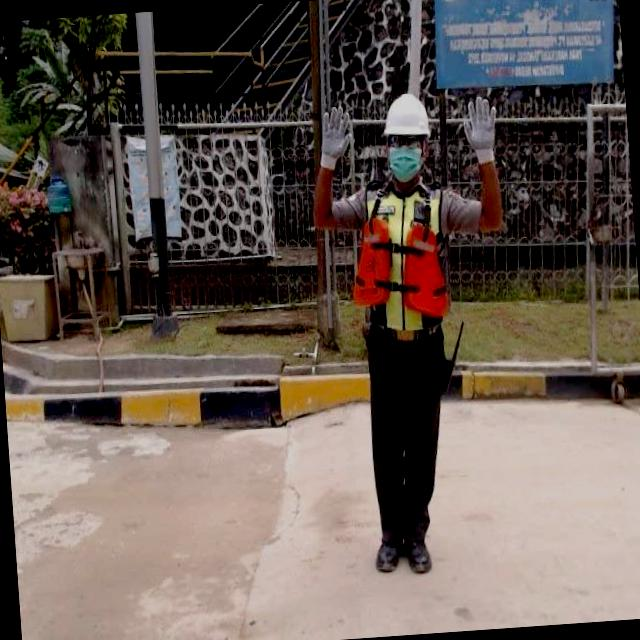vest: (342, 173, 456, 344)
